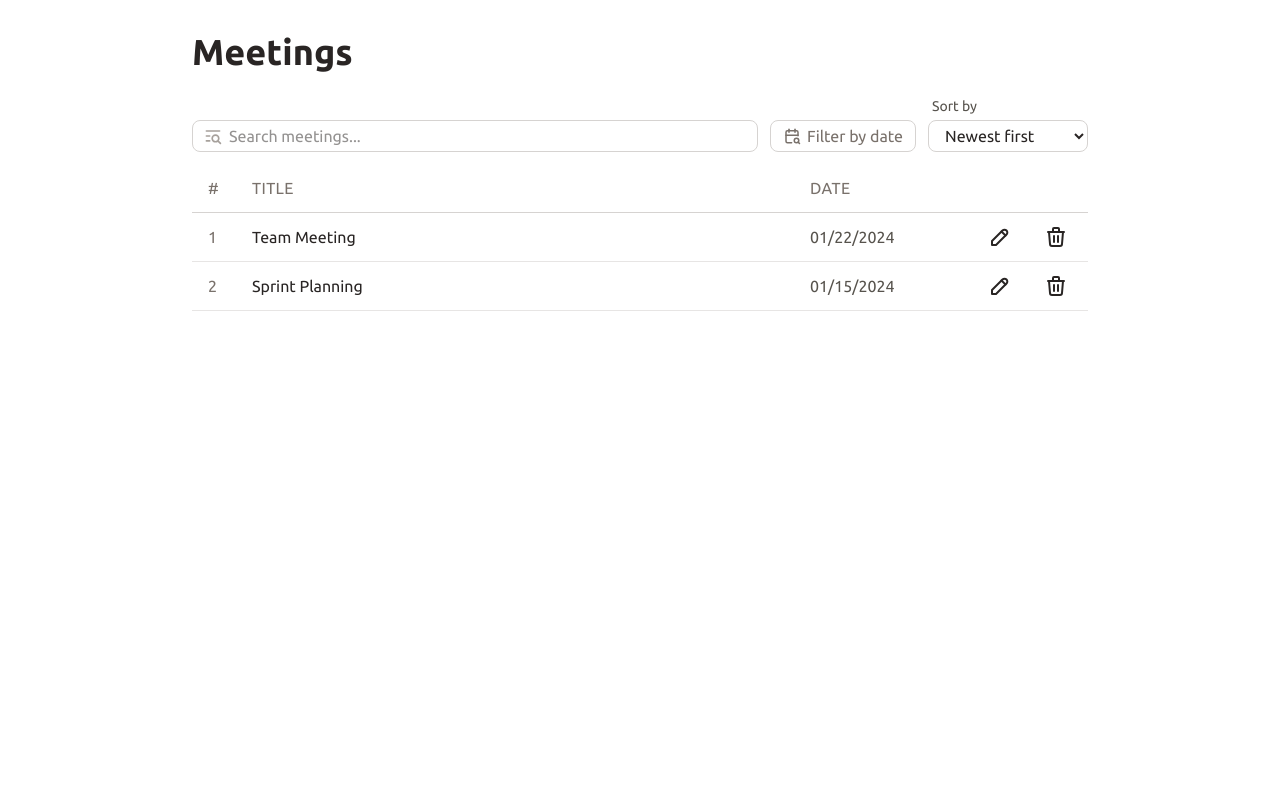
Scenario: Meeting Delete › deletes a meeting and removes it from the list
Click the button named "Delete" next to "01/22/2024" at (1056, 237), box [1040, 221, 1072, 253]
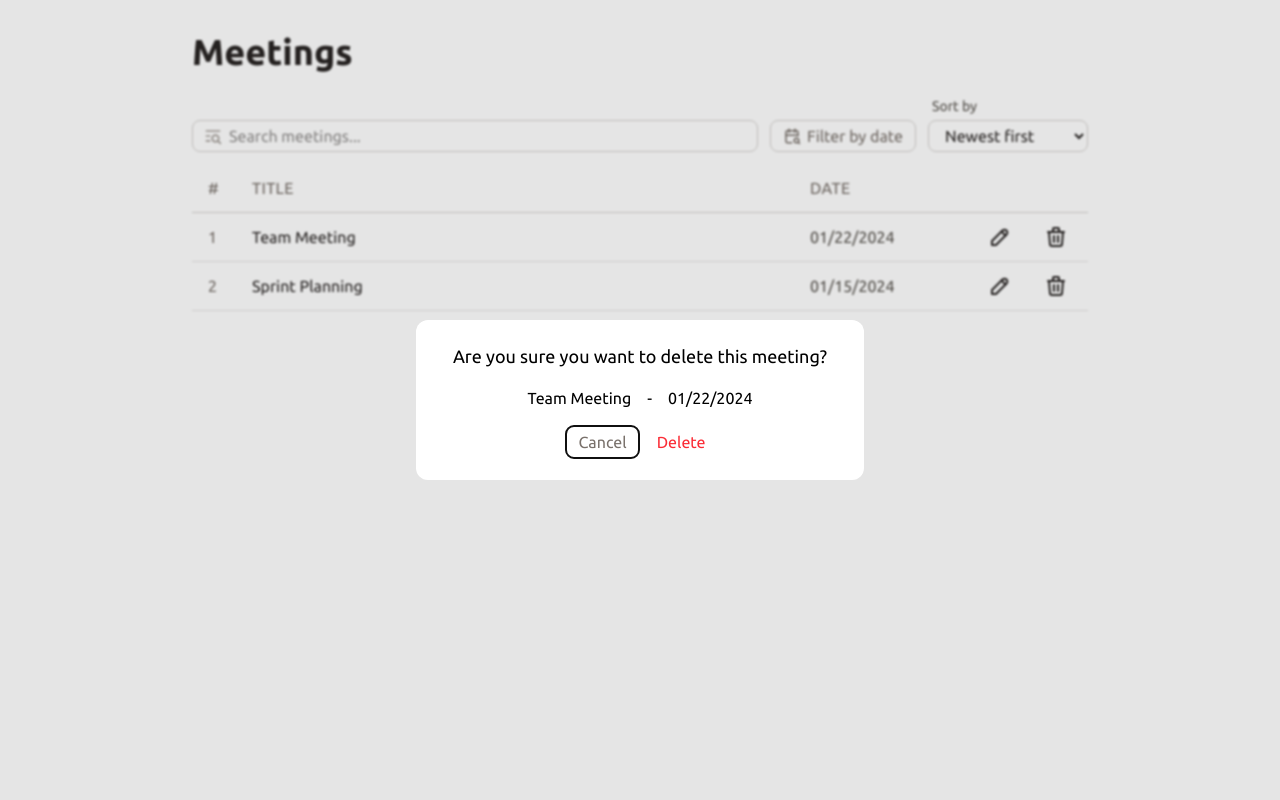
Click the button "Delete" at (681, 442), box [649, 426, 714, 458]
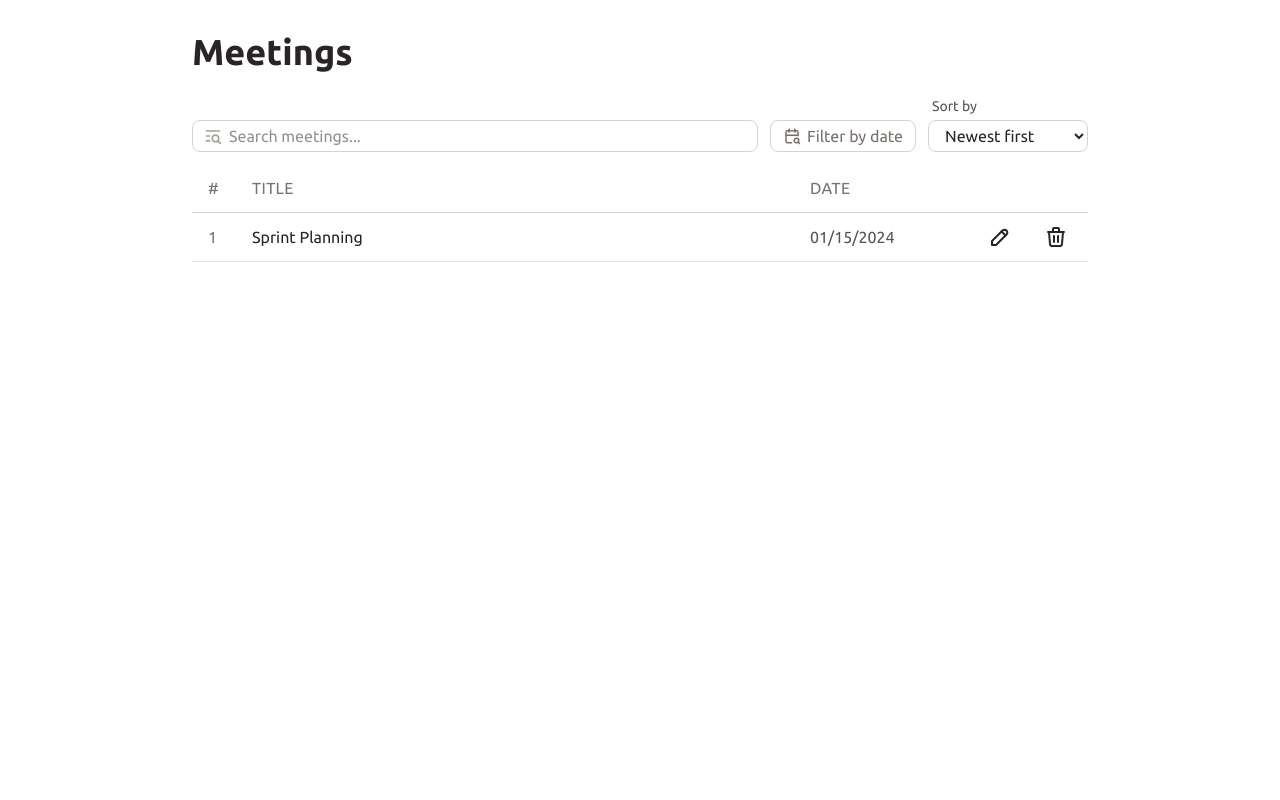
Check: the link "Sprint Planning" is shown, box [252, 228, 363, 246]
Check: the text "Team Meeting" is gone
